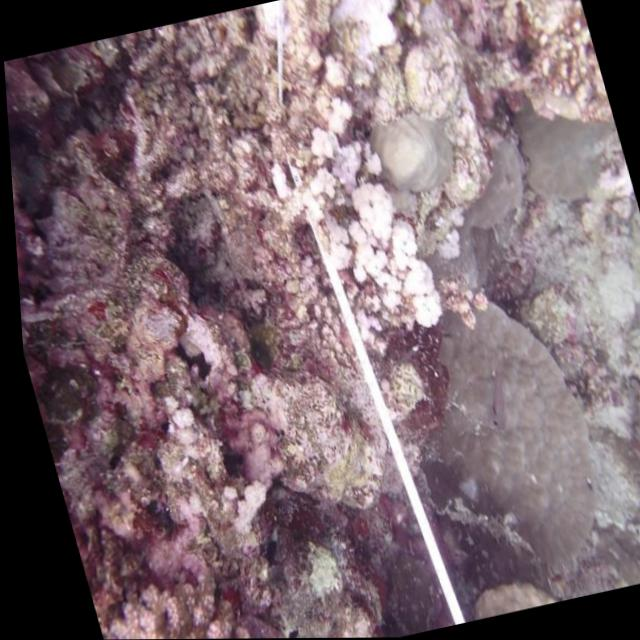Bleached Coral: (248, 97, 452, 350), (306, 0, 431, 69)
